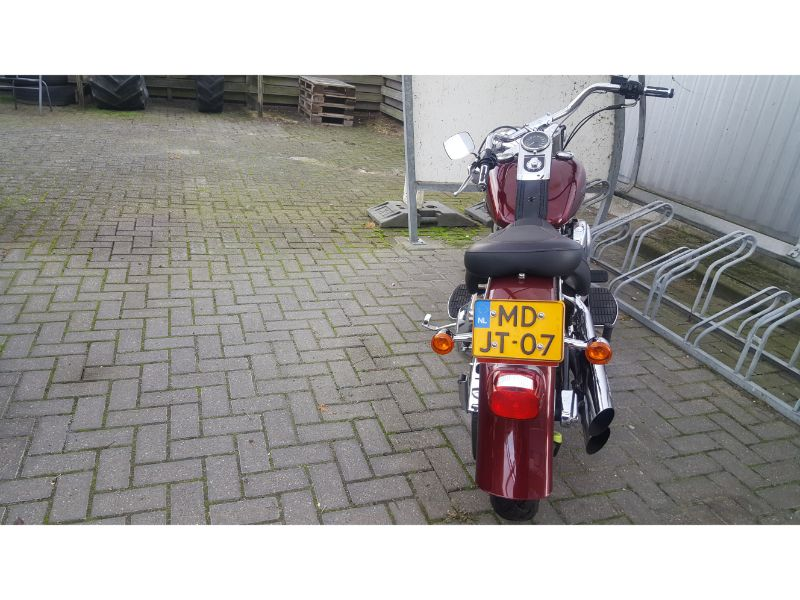kenteken: (472, 298, 564, 360)
